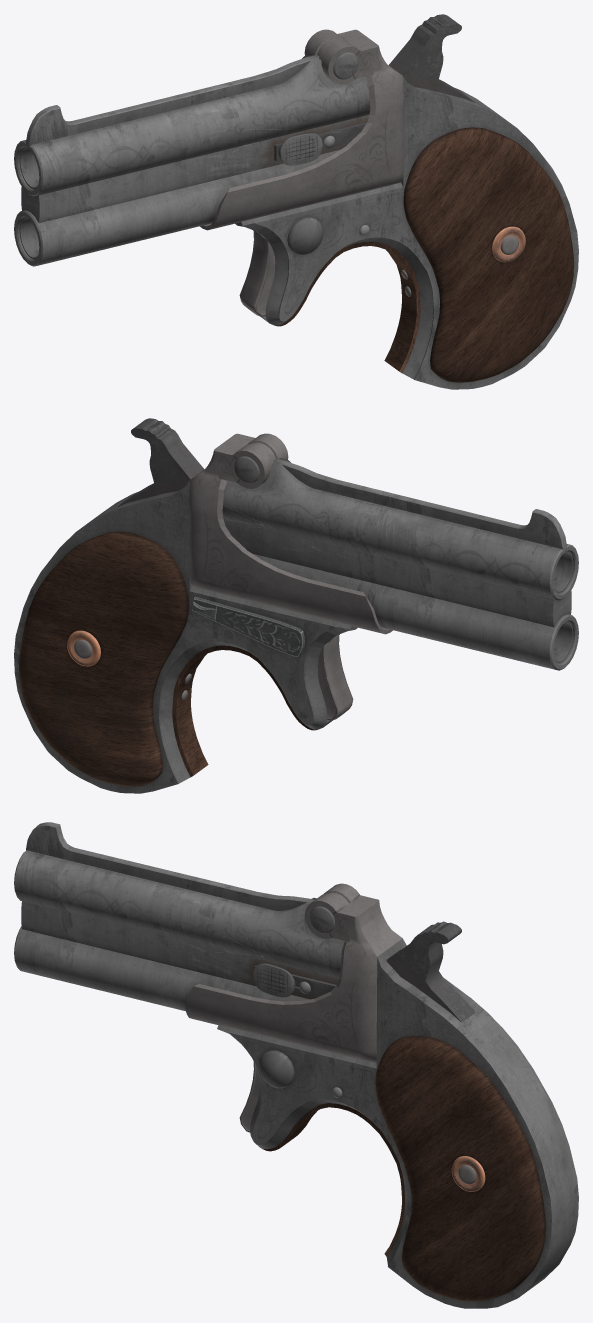
File: gun_full.fbx
3 renders of one model, top to bottom at view 1: azimuth 30°, elevation 25°; view 2: azimuth 150°, elevation 25°; view 3: azimuth 330°, elevation 25°, orthographic.
Visible parts, largest first — view 1: polySurface67, polySurface2, polySurface53, polySurface57, polySurface71, polySurface65, polySurface58, pCube5, polySurface62, polySurface1, qqqqwwww, polySurface68 (+4 smaller); view 2: polySurface67, polySurface54, polySurface53, polySurface57, polySurface71, polySurface59, pCube5, pCube6, polySurface62, polySurface58, polySurface1, qqqqwwww (+2 smaller); view 3: polySurface67, polySurface2, polySurface57, polySurface53, polySurface71, polySurface58, polySurface65, pCube5, polySurface62, polySurface68, qqqqwwww, pCylinder39 (+2 smaller).
Part boxes in pixels (<box>): polySurface67: <box>14,54,370,266</box>; polySurface2: <box>403,127,573,382</box>; polySurface53: <box>200,29,403,230</box>; polySurface57: <box>393,76,578,389</box>; polySurface71: <box>26,55,319,146</box>; polySurface65: <box>235,201,326,325</box>; polySurface58: <box>325,182,403,262</box>; pCube5: <box>389,14,475,102</box>; polySurface62: <box>276,241,420,372</box>; polySurface1: <box>239,230,275,316</box>; qqqqwwww: <box>304,29,360,84</box>; polySurface68: <box>278,132,322,165</box>; polySurface67: <box>222,458,578,670</box>; polySurface54: <box>19,531,189,786</box>; polySurface53: <box>189,433,392,634</box>; polySurface57: <box>14,480,199,793</box>; polySurface71: <box>273,459,566,550</box>; polySurface59: <box>266,605,357,729</box>; pCube5: <box>117,418,203,506</box>; pCube6: <box>192,596,304,656</box>; polySurface62: <box>172,645,316,776</box>; polySurface58: <box>189,586,267,666</box>; polySurface1: <box>317,634,353,720</box>; qqqqwwww: <box>232,433,288,488</box>; polySurface67: <box>14,850,344,1011</box>; polySurface2: <box>375,1036,545,1301</box>; polySurface57: <box>376,938,578,1308</box>; polySurface53: <box>185,895,402,1063</box>; polySurface71: <box>26,822,314,910</box>; polySurface58: <box>300,1045,376,1125</box>; polySurface65: <box>217,1025,310,1149</box>; pCube5: <box>386,921,475,1022</box>; polySurface62: <box>261,1103,404,1256</box>; polySurface68: <box>252,963,295,997</box>; qqqqwwww: <box>304,883,359,938</box>; pCylinder39: <box>258,1050,294,1088</box>.
Size of the model in its own units: 91.78 by 60.57 by 13.19.
